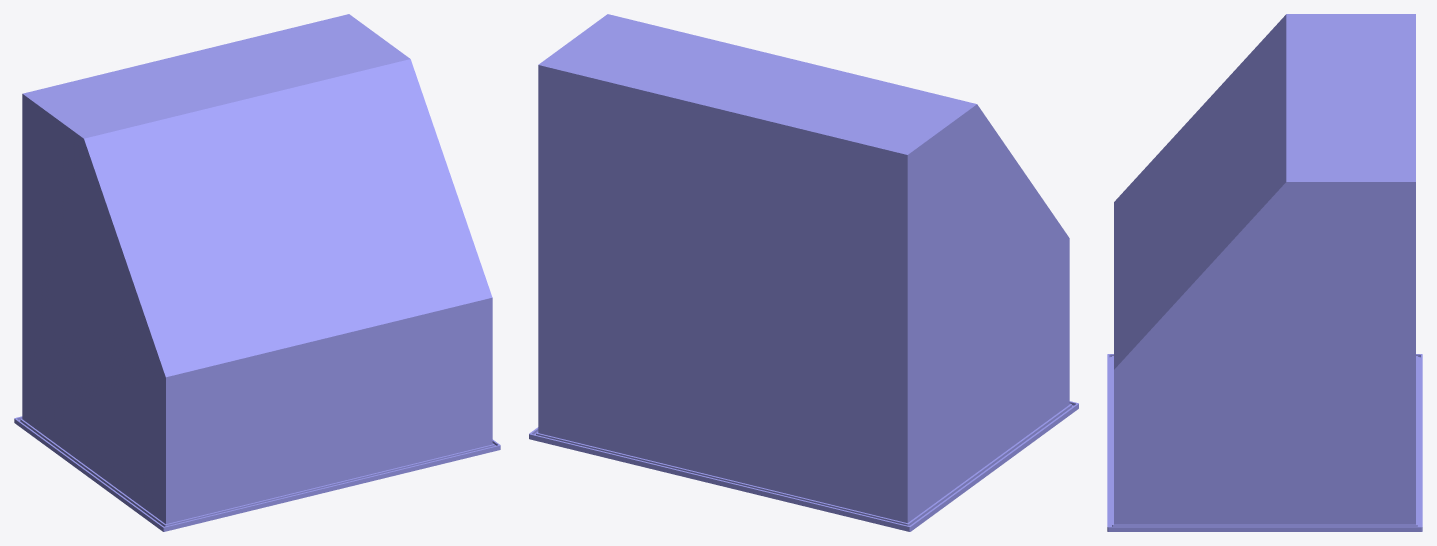
File: PartBody 12.FBX
3 renders of one model, left to right at view 1: azimuth 30°, elevation 25°; view 2: azimuth 150°, elevation 25°; view 3: azimuth 270°, elevation 25°, orthographic. The views are drawn at different scales.
Parts seen in each view (by area): view 1: PartBody; view 2: PartBody; view 3: PartBody.
Part boxes in pixels (x1=…): PartBody: x1=14, y1=14, x2=500, y2=531; PartBody: x1=529, y1=14, x2=1078, y2=531; PartBody: x1=1107, y1=14, x2=1422, y2=531.
Bounding box in the file's own units: 318 × 244 × 296.
